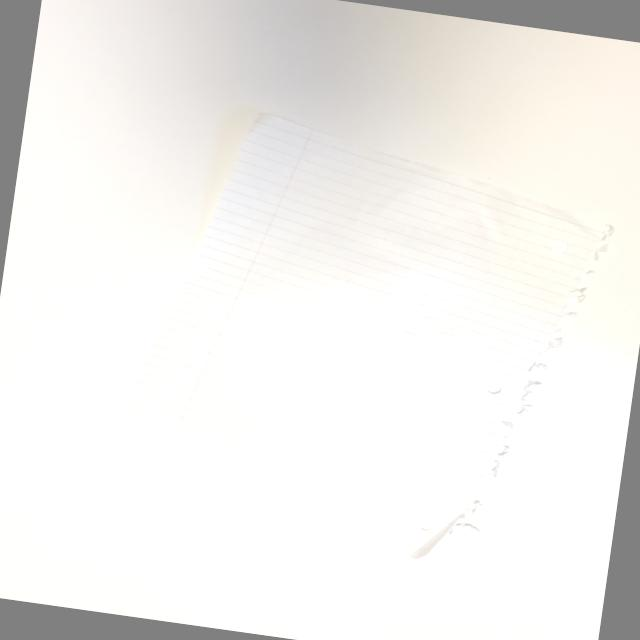Paper: (89, 96, 626, 586)
